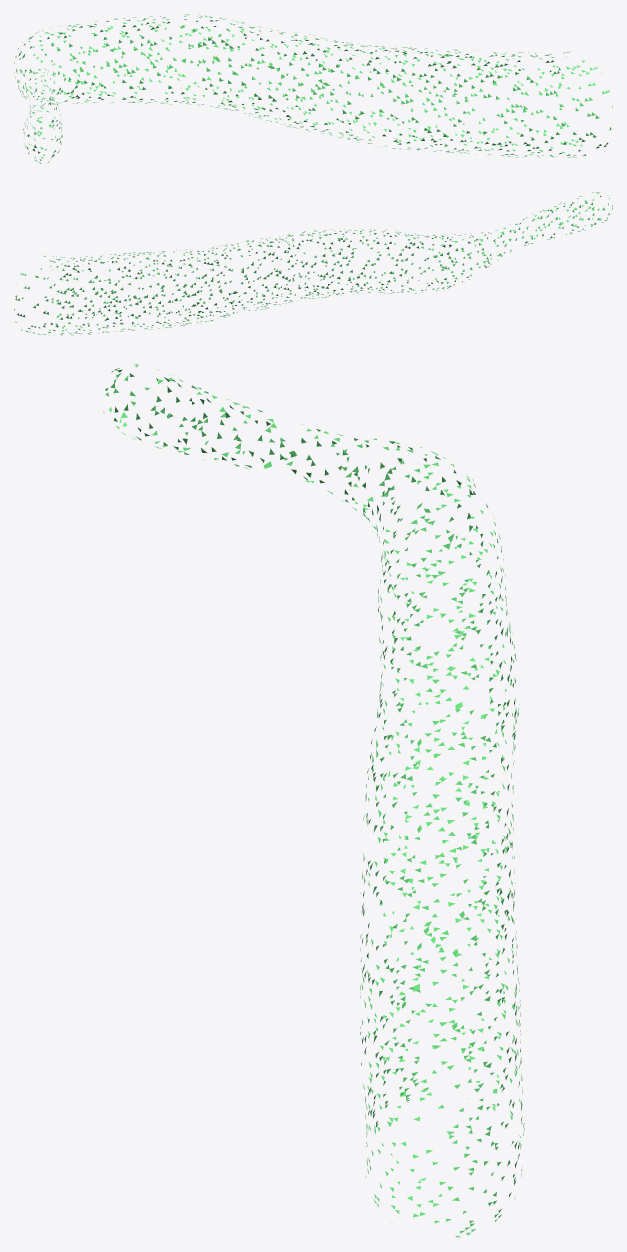
File: morph_019.glb
The picture shows the model from 3 angles, top to bottom: view 1: azimuth 30°, elevation 25°; view 2: azimuth 150°, elevation 25°; view 3: azimuth 270°, elevation 25°; orthographic projection. The views are drawn at different scales.
Bounding box in the file's own units: 118 × 44.94 × 43.26.
